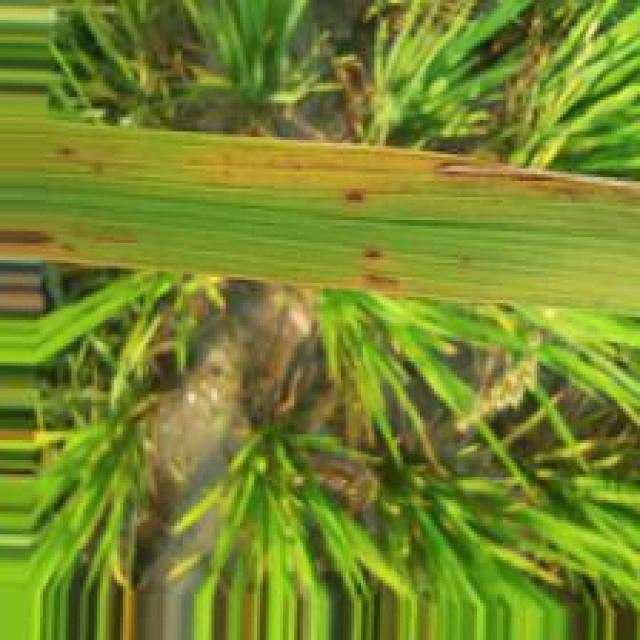Brown_Spot: (436, 154, 583, 193), (0, 227, 63, 246), (363, 271, 406, 295), (342, 186, 377, 209), (362, 247, 393, 265), (54, 144, 81, 156)
